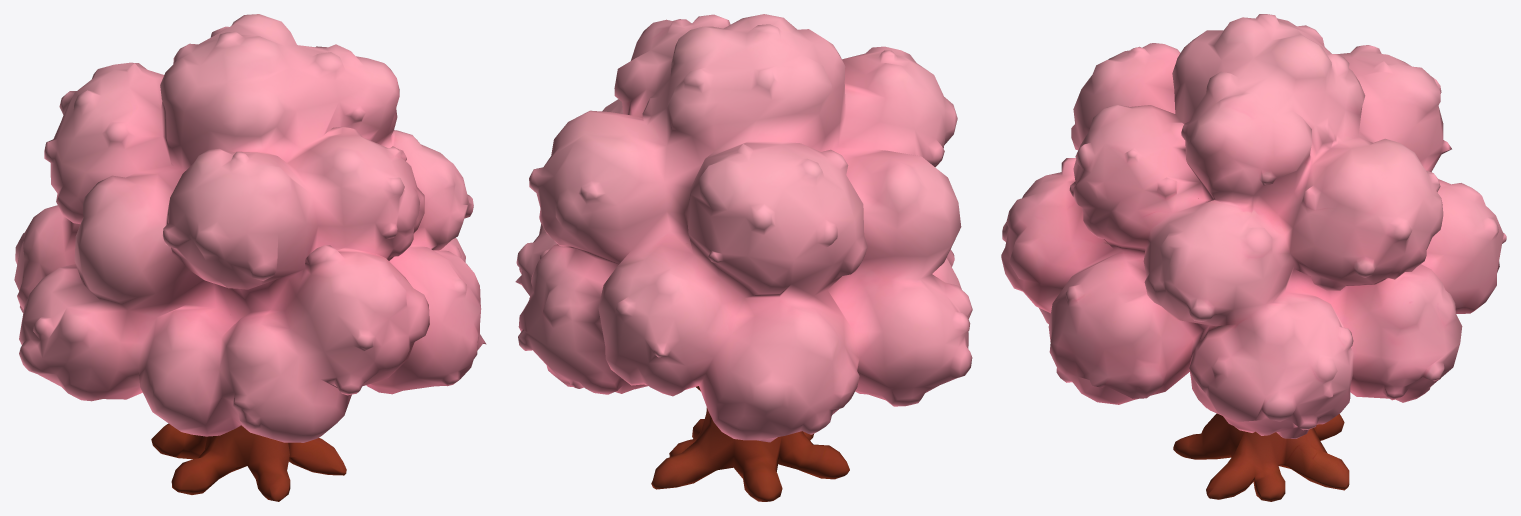
Rendered from tree_blossom.glb.
3 views of the same model, side by side, from view 1: azimuth 30°, elevation 25°; view 2: azimuth 150°, elevation 25°; view 3: azimuth 270°, elevation 25° (orthographic). The views are drawn at different scales.
Parts seen in each view (by area): view 1: tripo_node_a0f60e07-47c0-4590-9410-27fe9513f11f; view 2: tripo_node_a0f60e07-47c0-4590-9410-27fe9513f11f; view 3: tripo_node_a0f60e07-47c0-4590-9410-27fe9513f11f.
Boxes of the visible parts, x1,y1,x2,y2 form: tripo_node_a0f60e07-47c0-4590-9410-27fe9513f11f: [14, 14, 486, 501]; tripo_node_a0f60e07-47c0-4590-9410-27fe9513f11f: [515, 14, 972, 501]; tripo_node_a0f60e07-47c0-4590-9410-27fe9513f11f: [1001, 14, 1506, 501].
Bounding box in the file's own units: 0.9902 × 0.9629 × 0.998.
1 material, 1 textured.
